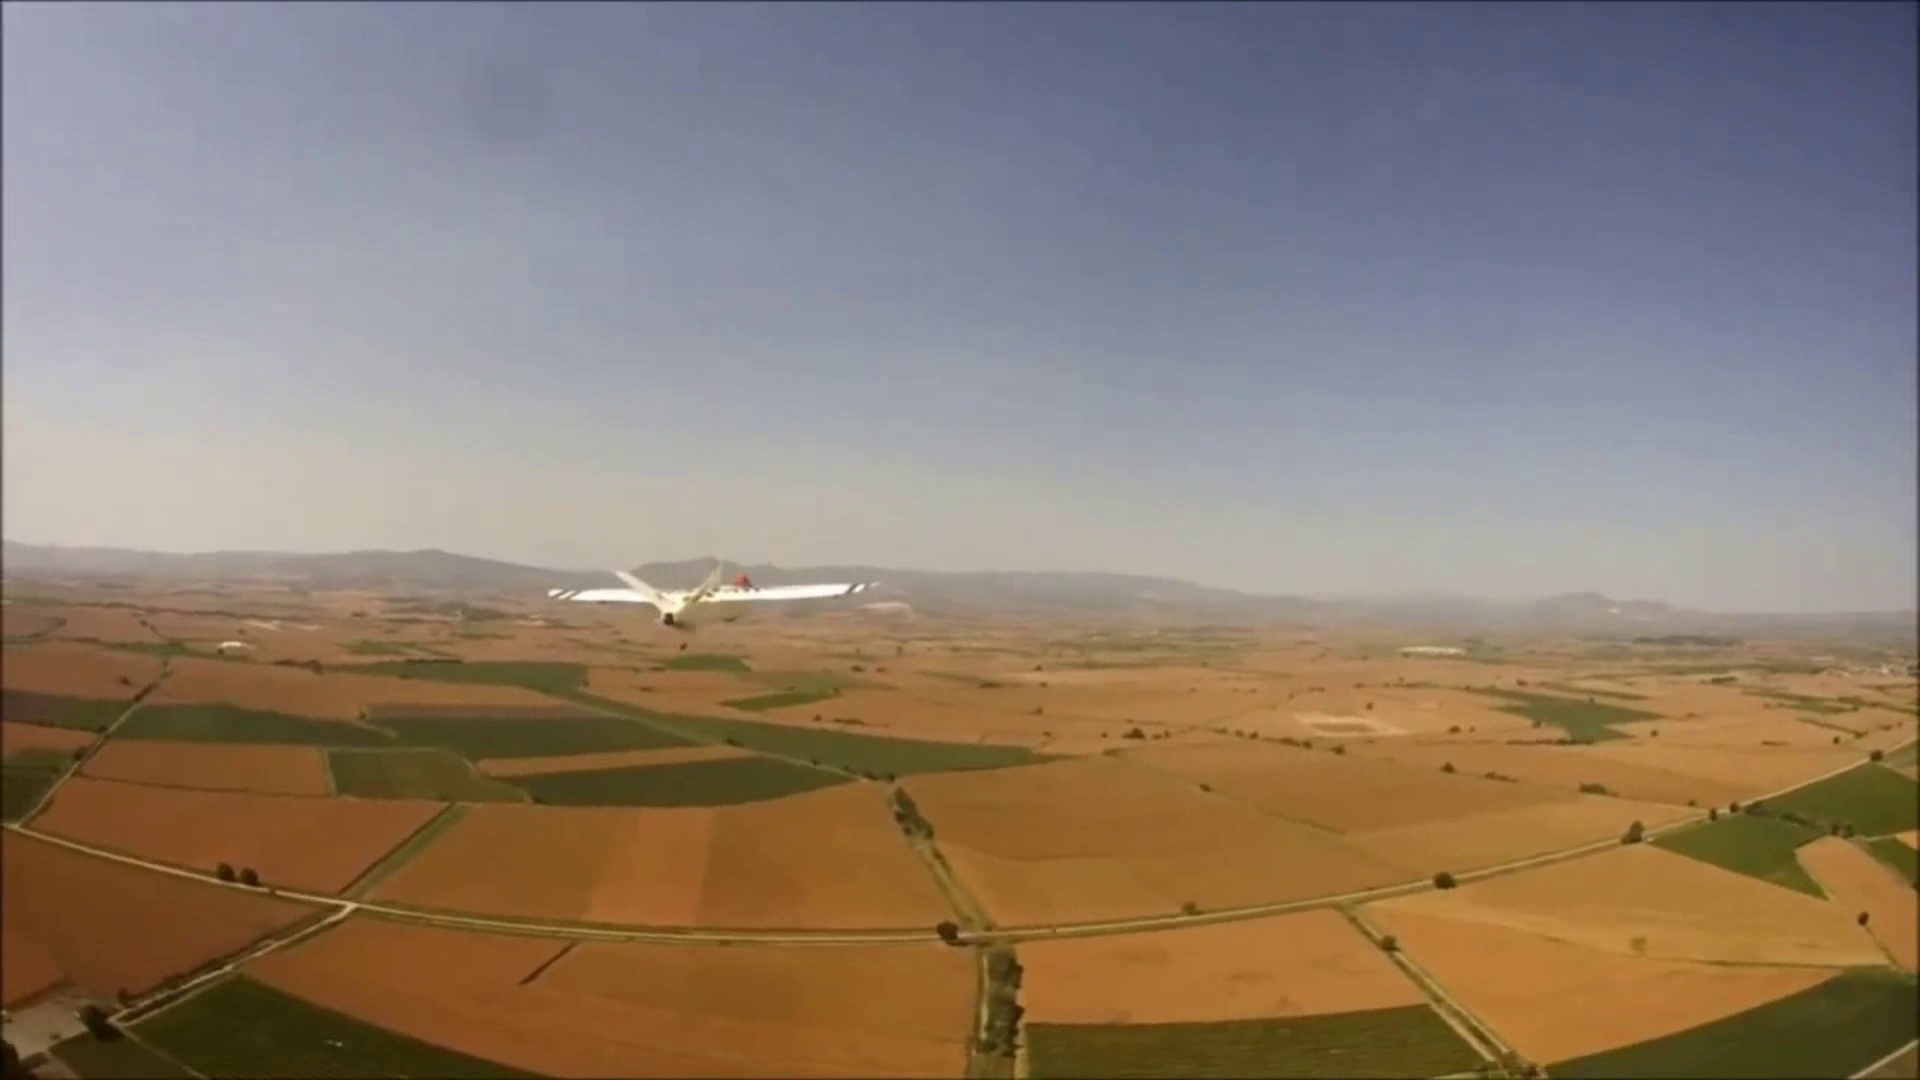airplane: (546, 558, 905, 636)
